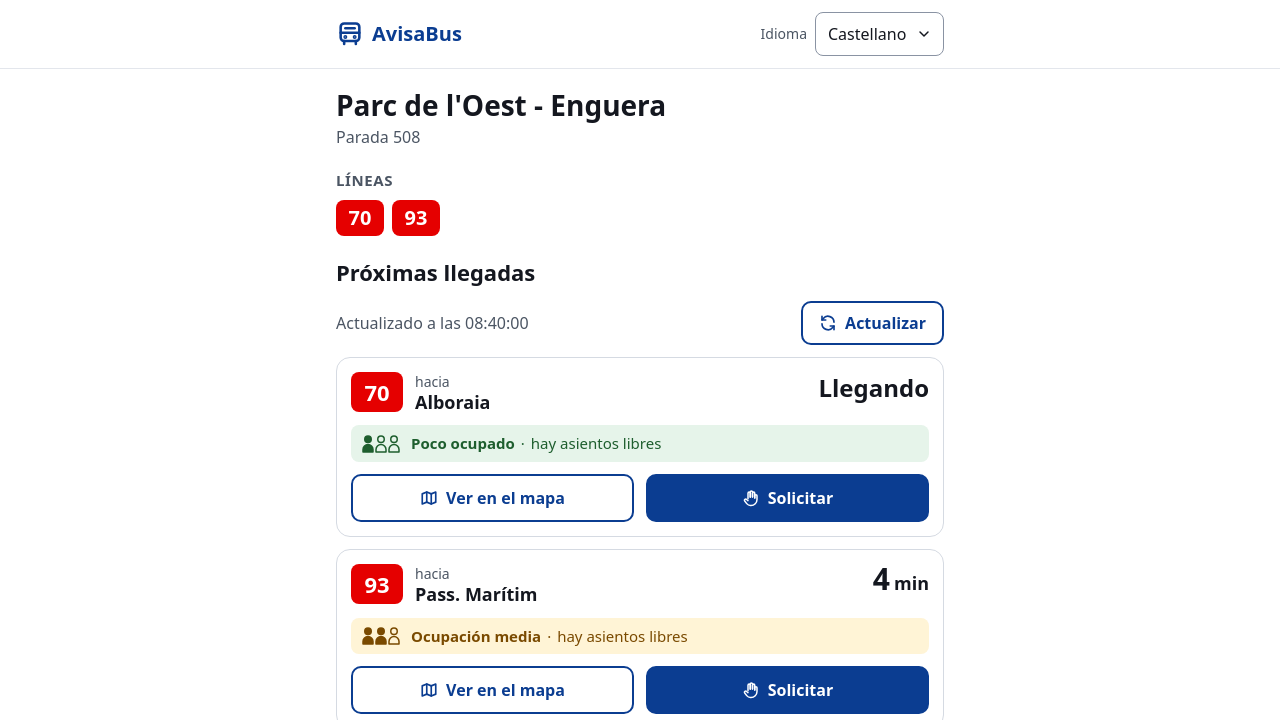
Test: StopPage with stop requests › [passenger_alert_ui.AC-06] a 422 on the request refreshes the arrivals
The image size is (1280, 720).
Click the button named "Solicitar parada a la línea 93 hacia Passeig Marítim - Hospital Malva-rosa": point(788, 690) [646, 666, 929, 714]
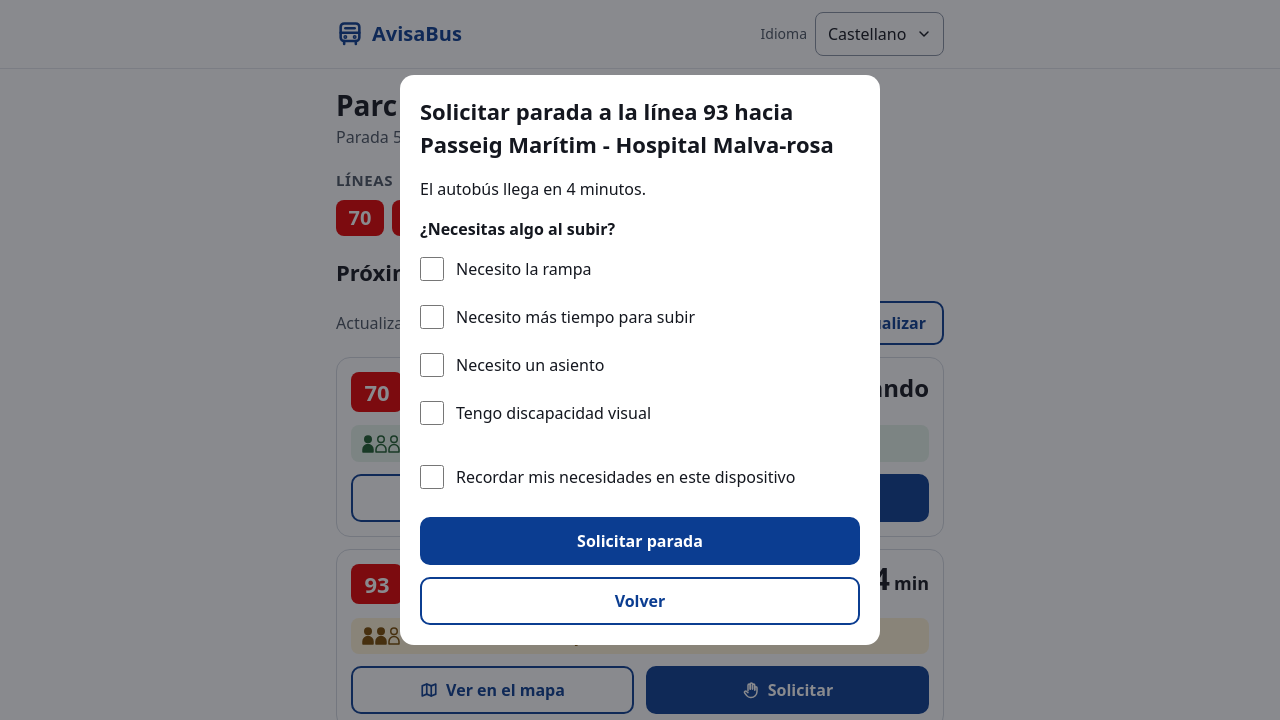
Click the button "Solicitar parada": point(640, 541) [420, 517, 860, 565]
Wait 100 ms
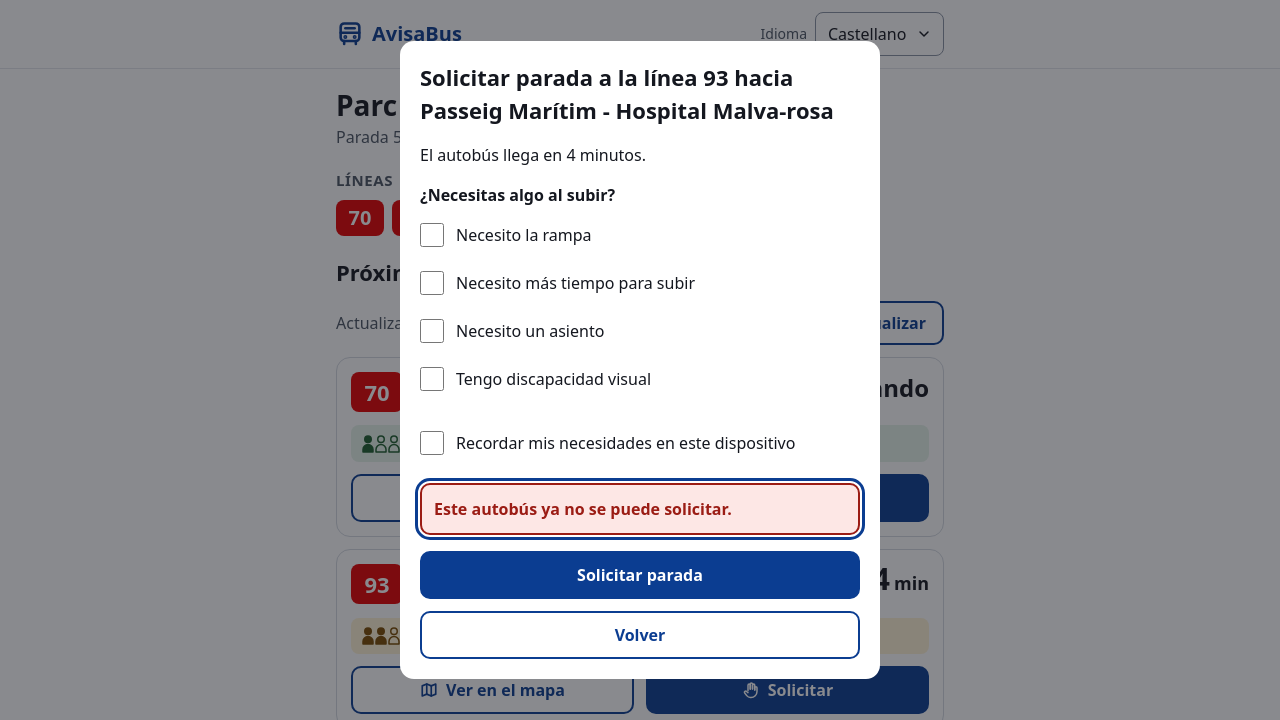
expect the message reads "Este autobús ya no se puede solicitar.": met, box [434, 498, 732, 520]
